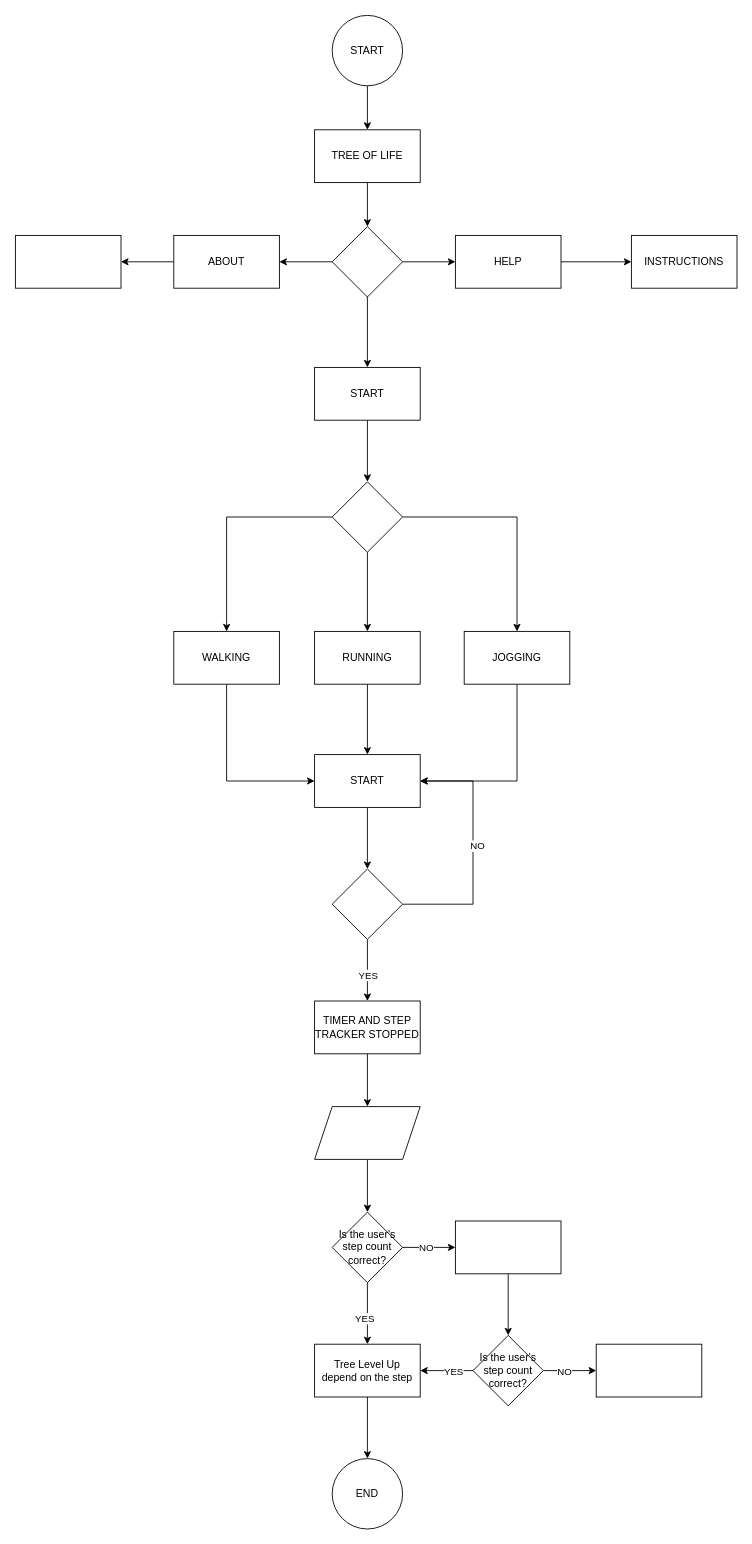
Image size: 752x1544. Some labels were removed from this diagram. The centre of each missing label's shape, as x and y in pixels:
"2 ATTEMPT LEFT" belongs at point (508, 1247).
"HOW MANY STEP DID YOU DO?" belongs at point (367, 1132).
"INFORMATIONS" belongs at point (68, 261).
"IS THE USER IS DONE" belongs at point (367, 903).
"SELECT AN OPTION" belongs at point (367, 261).
"SELECT CATEGORIES" belongs at point (367, 516).
"TREE DID NOT LEVEL UP" belongs at point (648, 1370).
